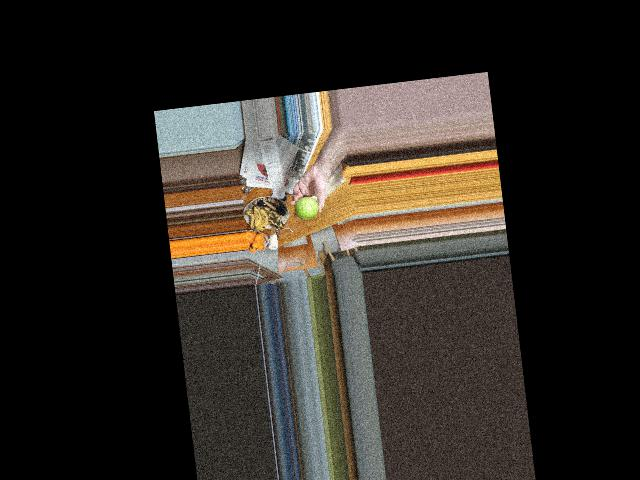apple: (293, 192, 322, 222)
